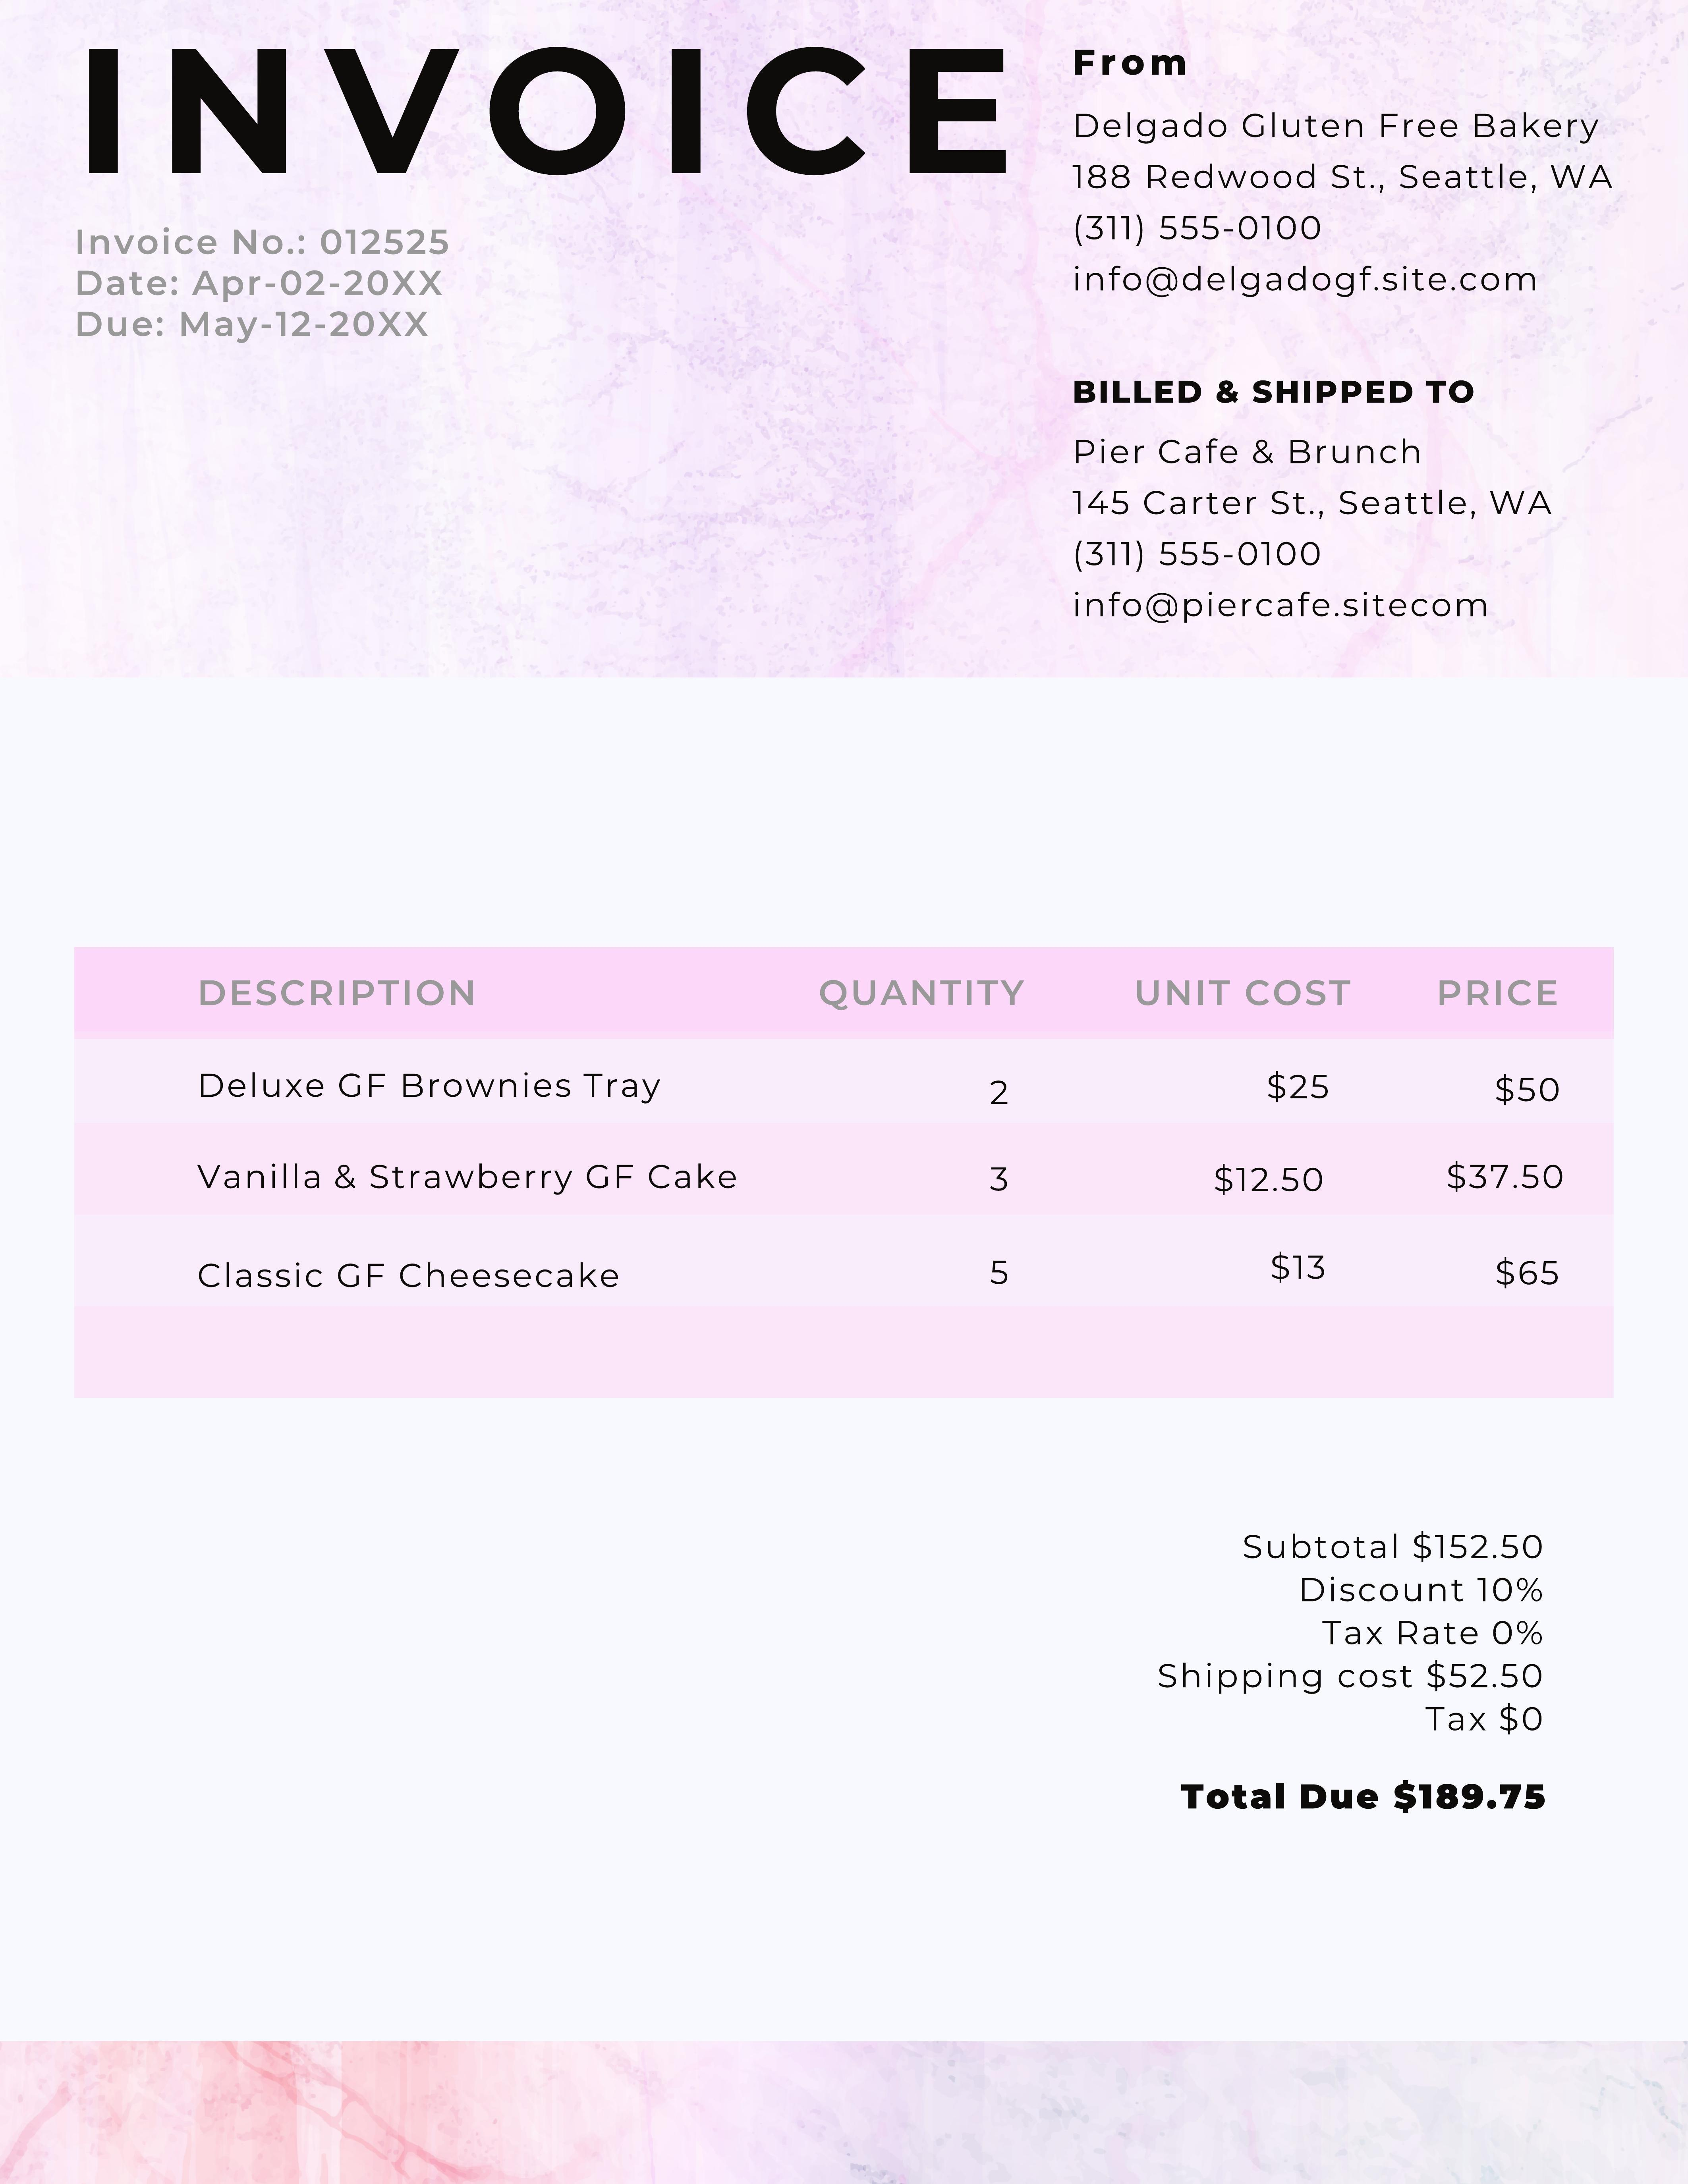ROI: (186, 963, 1571, 1310), (1066, 44, 1621, 314), (1066, 367, 1582, 631), (1145, 1512, 1569, 1828), (60, 223, 459, 344)
